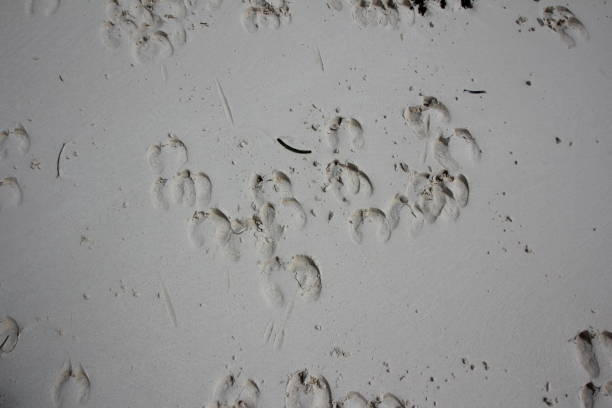animal_footprint: (100, 0, 196, 62), (259, 255, 321, 349), (403, 96, 481, 170), (247, 170, 306, 257), (145, 135, 212, 209), (405, 170, 468, 223), (260, 254, 321, 307), (572, 330, 611, 407), (345, 0, 452, 27), (188, 208, 241, 260), (150, 169, 211, 209), (323, 160, 373, 203), (538, 5, 588, 47), (403, 96, 449, 138), (52, 359, 90, 407), (350, 0, 414, 28), (206, 374, 259, 407), (285, 370, 331, 407), (252, 202, 282, 257), (240, 0, 290, 33), (145, 135, 187, 174), (248, 170, 292, 207), (386, 193, 423, 235), (287, 255, 321, 300), (348, 207, 390, 243), (324, 116, 364, 153), (131, 30, 173, 63), (574, 330, 599, 377), (334, 391, 406, 407), (429, 133, 458, 170), (0, 125, 29, 159), (452, 128, 481, 162), (169, 170, 195, 206), (0, 177, 22, 210), (0, 316, 19, 354), (150, 177, 168, 209), (26, 0, 60, 15), (578, 382, 597, 407)
